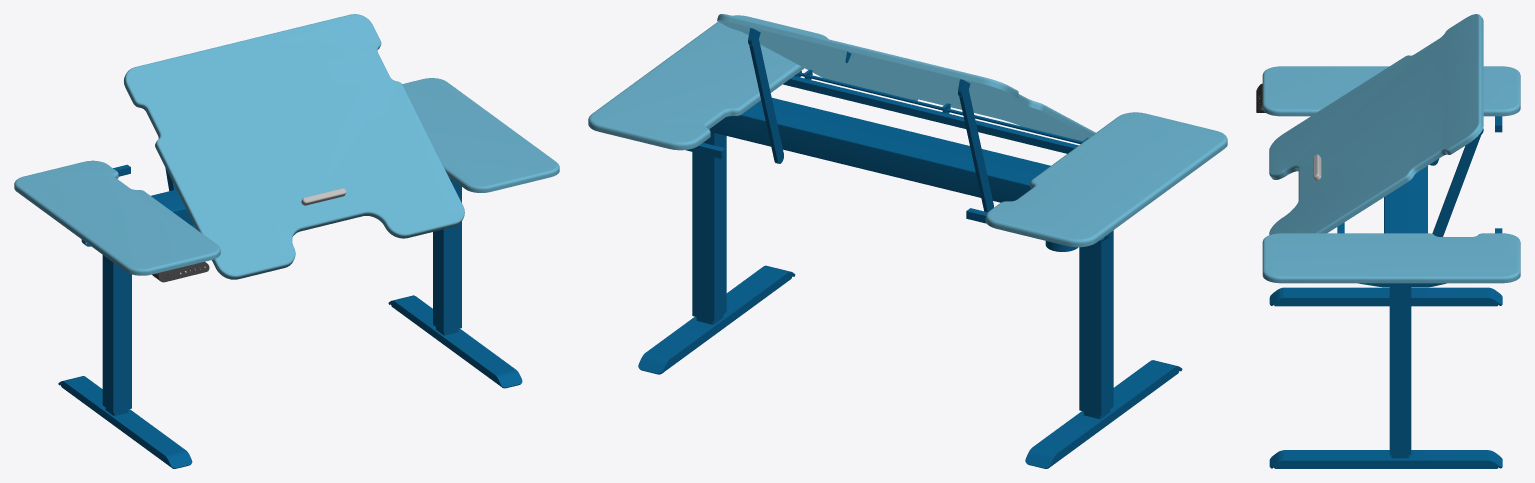
File: child-model-blue.glb
The picture shows the model from 3 angles, left to right: view 1: azimuth 30°, elevation 25°; view 2: azimuth 150°, elevation 25°; view 3: azimuth 270°, elevation 25°; orthographic projection. The views are drawn at different scales.
Parts seen in each view (by area): view 1: Line004, Line003, Line002, Box002, Box008, Line005, Line033, Line006, Line034, Box006; view 2: Line003, Line002, Box006, Line004, Box002, Box008, Box003, Line033, Line005, Line023, Line025, Cylinder008 (+2 smaller); view 3: Line004, Line002, Line003, Box008, Line005, Line033, Box006, Line007, Line035, Line025, Line021.
Part boxes in pixels (x1,y1,x2,y2): Line004: (124,14,464,279); Line003: (14,160,220,275); Line002: (402,78,559,192); Box002: (102,255,131,412); Box008: (433,180,461,332); Line005: (58,376,192,468); Line033: (388,295,522,388); Line006: (61,383,170,466); Line034: (391,302,500,386); Box006: (151,189,193,225); Line003: (985,112,1227,247); Line002: (588,15,828,150); Box006: (709,97,1050,202); Line004: (717,14,1095,141); Box002: (1079,230,1113,415); Box008: (692,132,726,320); Box003: (783,76,1078,153); Line033: (638,265,795,374); Line005: (1025,360,1182,468); Line023: (959,86,993,212); Line025: (749,39,783,163); Cylinder008: (798,72,1081,143); Line004: (1269,14,1483,234); Line002: (1262,233,1520,283); Line003: (1262,66,1520,116); Box008: (1389,287,1411,455); Line005: (1269,287,1502,305); Line033: (1269,450,1502,468); Box006: (1384,166,1427,233); Line007: (1274,299,1498,306); Line035: (1274,462,1498,468); Line025: (1432,131,1481,236); Line021: (1358,283,1446,287).
Size of the model in its own units: 1401 by 964 by 738.
